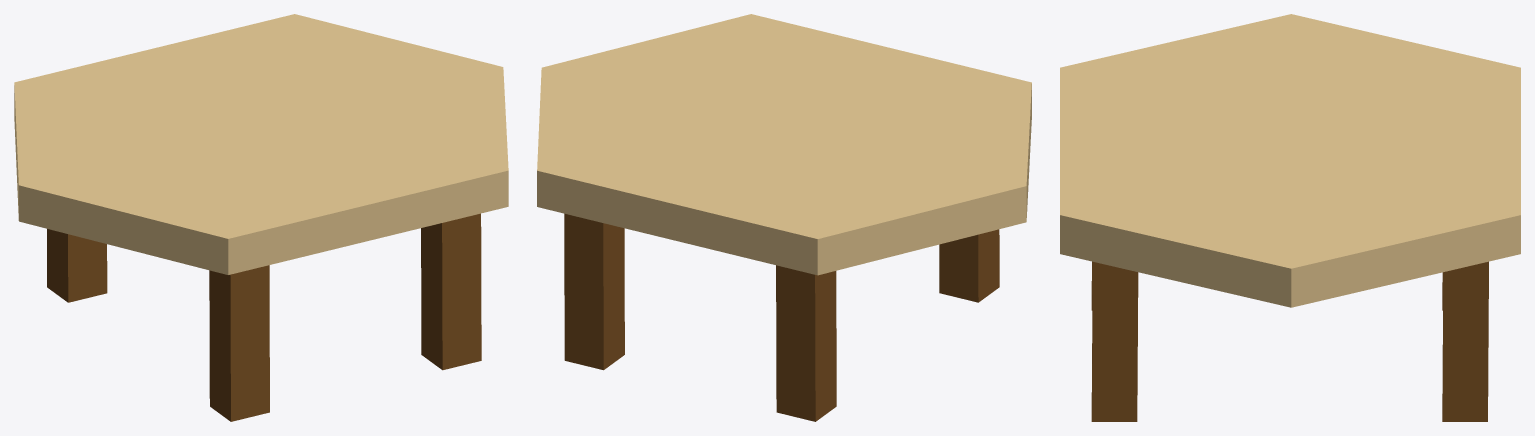
Rendered from cornertable.fbx.
3 renders of one model, left to right at view 1: azimuth 30°, elevation 25°; view 2: azimuth 150°, elevation 25°; view 3: azimuth 270°, elevation 25°, orthographic. The views are drawn at different scales.
Parts seen in each view (by area): view 1: Cube.003; view 2: Cube.003; view 3: Cube.003.
Part boxes in pixels (left/top/right/bottom): Cube.003: left=14, top=14, right=508, bottom=421; Cube.003: left=537, top=14, right=1031, bottom=421; Cube.003: left=1060, top=14, right=1520, bottom=421.
Size of the model in its own units: 136 by 69.27 by 177.
